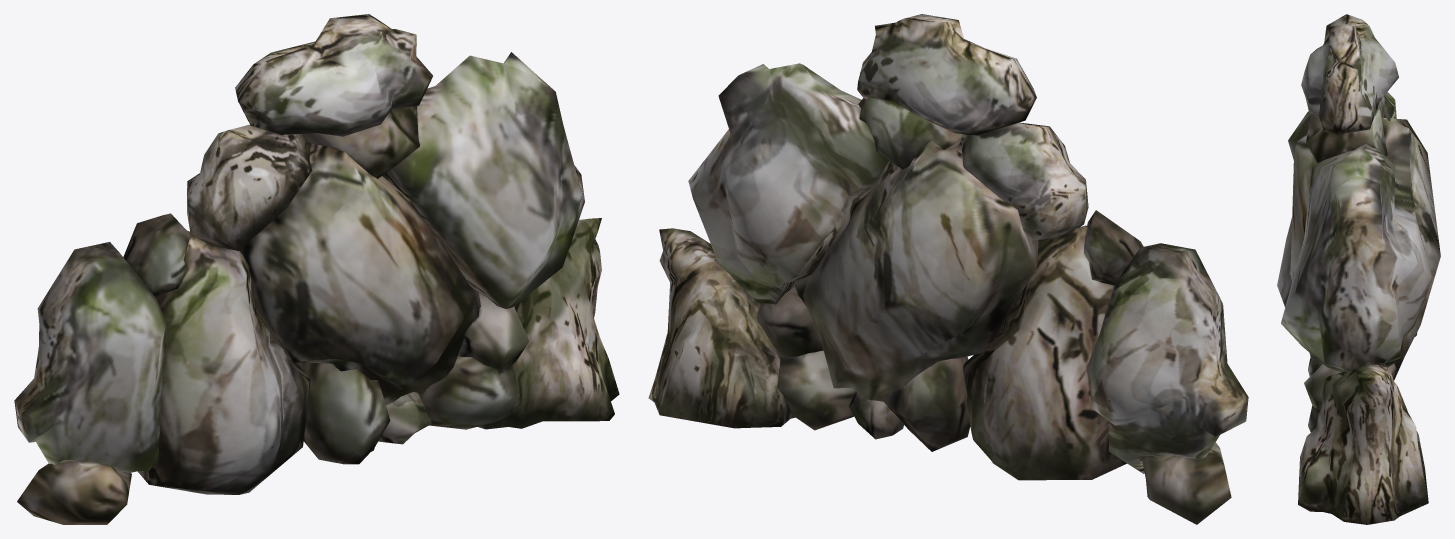
File: STR_WallStone.FBX
The picture shows the model from 3 angles, left to right: view 1: azimuth 30°, elevation 25°; view 2: azimuth 150°, elevation 25°; view 3: azimuth 270°, elevation 25°; orthographic projection. The views are drawn at different scales.
Visible parts, largest first — view 1: PRP_WallStone; view 2: PRP_WallStone; view 3: PRP_WallStone.
Boxes of the visible parts, x1=… form: PRP_WallStone: x1=14, y1=14, x2=619, y2=524; PRP_WallStone: x1=648, y1=14, x2=1248, y2=524; PRP_WallStone: x1=1277, y1=14, x2=1440, y2=524.
Size of the model in its own units: 898 by 633 by 245.
